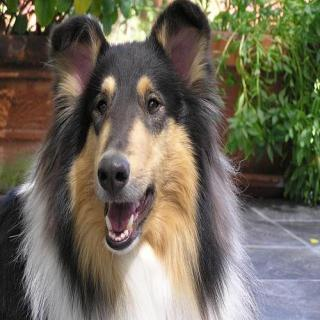dog: (50, 14, 223, 258)
nose: (96, 151, 135, 199)
